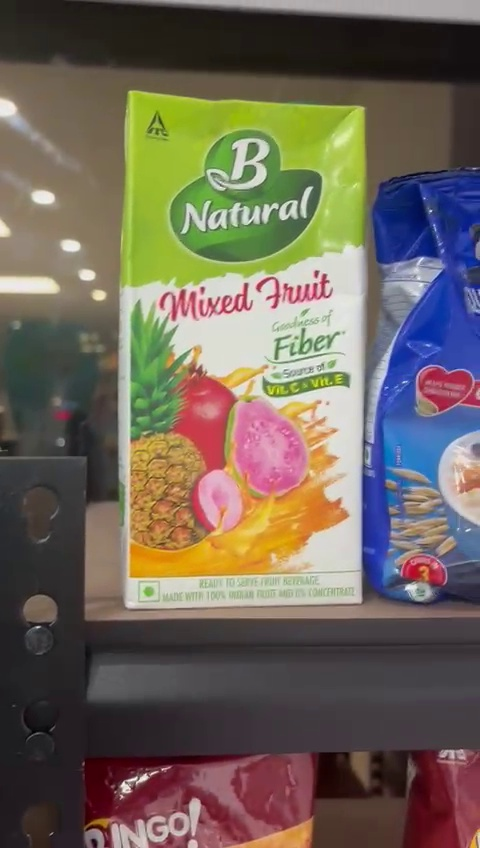Mixed Fruit: (121, 88, 368, 602)
